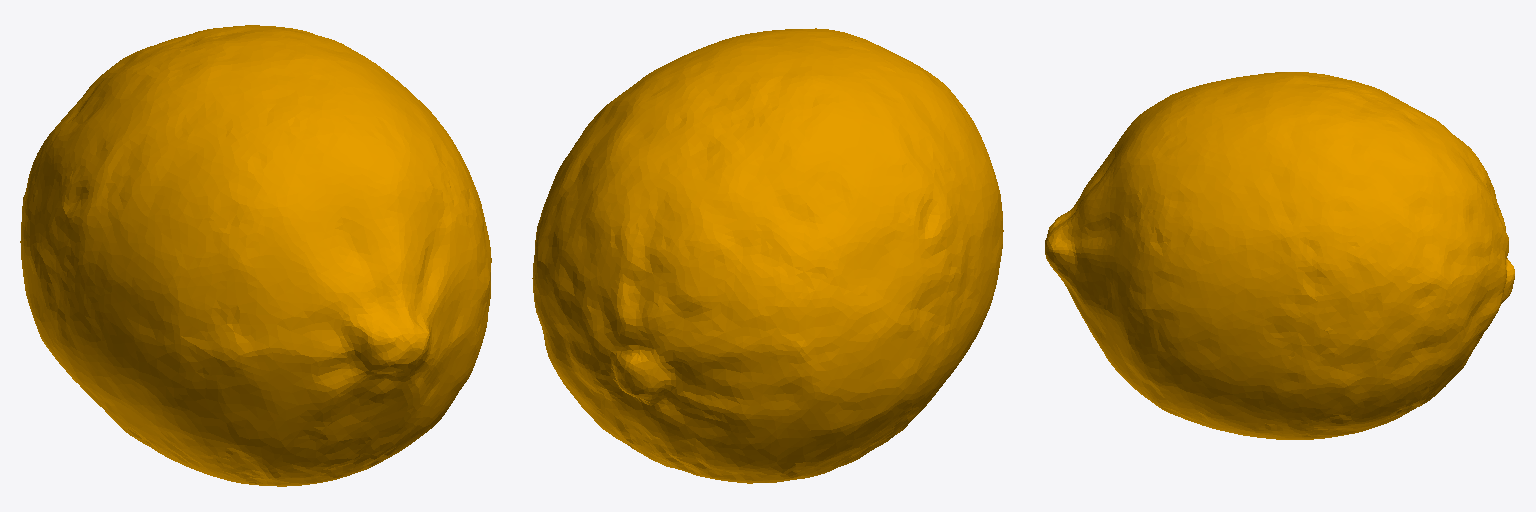
URDF robot description (model.urdf):
<?xml version="1.0" ?>
<robot name="model.urdf">
<link name="ycb">
<visual>
<origin rpy="0 0 0" xyz="0 0 0"/>
<geometry>
<mesh filename="meshes/textured_modified.obj" scale="1 1 1"/>
</geometry>
</visual>
<collision>
<origin rpy="0 0 0" xyz="0 0 0"/>
<geometry>
<mesh filename="meshes/textured_modified.obj" scale="1 1 1"/>
</geometry>
</collision>
<inertial>
<origin rpy="0 0 0" xyz="0 0 0"/>
       <mass value="0.027"/>
<inertia ixx="1" ixy="0" ixz="0" iyy="1" iyz="0" izz="1"/>
</inertial>
<contact>
<lateral_friction value="0.5"/>
<rolling_friction value="0.0"/>
<contact_cfm value="0.0"/>
<contact_erp value="1.0"/>
</contact>
</link>
</robot>

--- What the picture shows (computed from the rendered views, not written in the file) ---
The picture shows the robot from 3 angles, left to right: view 1: azimuth 30°, elevation 25°; view 2: azimuth 150°, elevation 25°; view 3: azimuth 270°, elevation 25°; orthographic projection.
Robot: model.urdf — 1 links, 0 joints (none); root link ycb; default pose: all joints at 0.
Links seen in each view (by area): view 1: ycb; view 2: ycb; view 3: ycb.
Boxes of the visible links, bbox=[...] form: ycb: bbox=[20, 25, 491, 486]; ycb: bbox=[532, 28, 1003, 483]; ycb: bbox=[1045, 72, 1514, 439].
Size in the robot's own frame: 0.0527 by 0.0688 by 0.053 metres.
Meshes: 1 distinct files referenced, 1 mesh visuals loaded (1 OBJ).